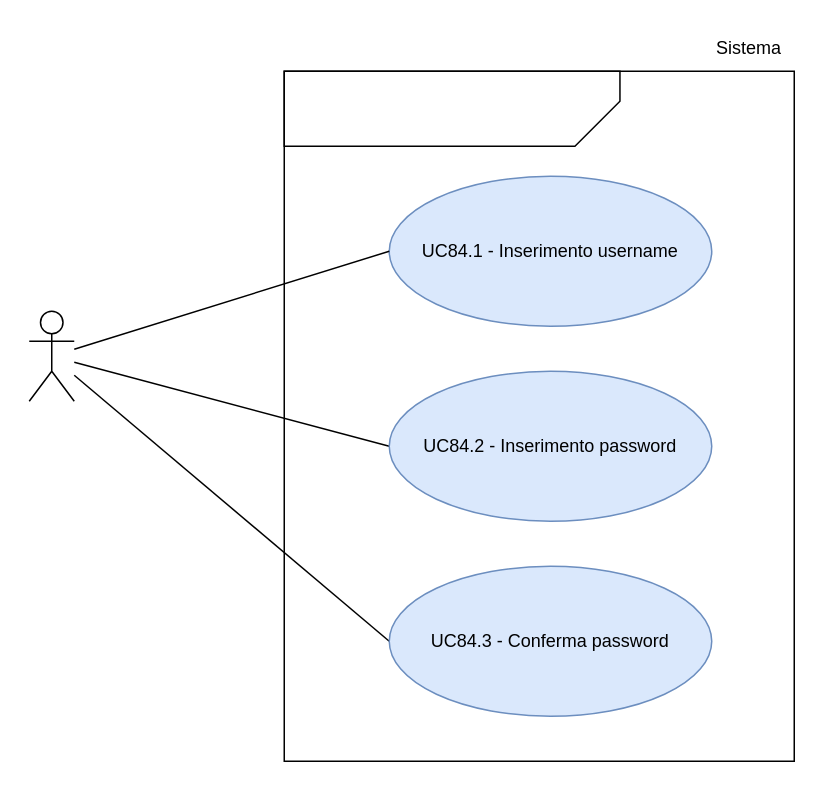
The diagram is 821 pixels wide and 788 high, and some of its shapes have lost their labels. Here are the shapes that lost their labels. From the top down, the centre of each, then its label:
At point 451,108: "UC86 - Registrazione nuovo account".
At point 51,355: "Utente".
